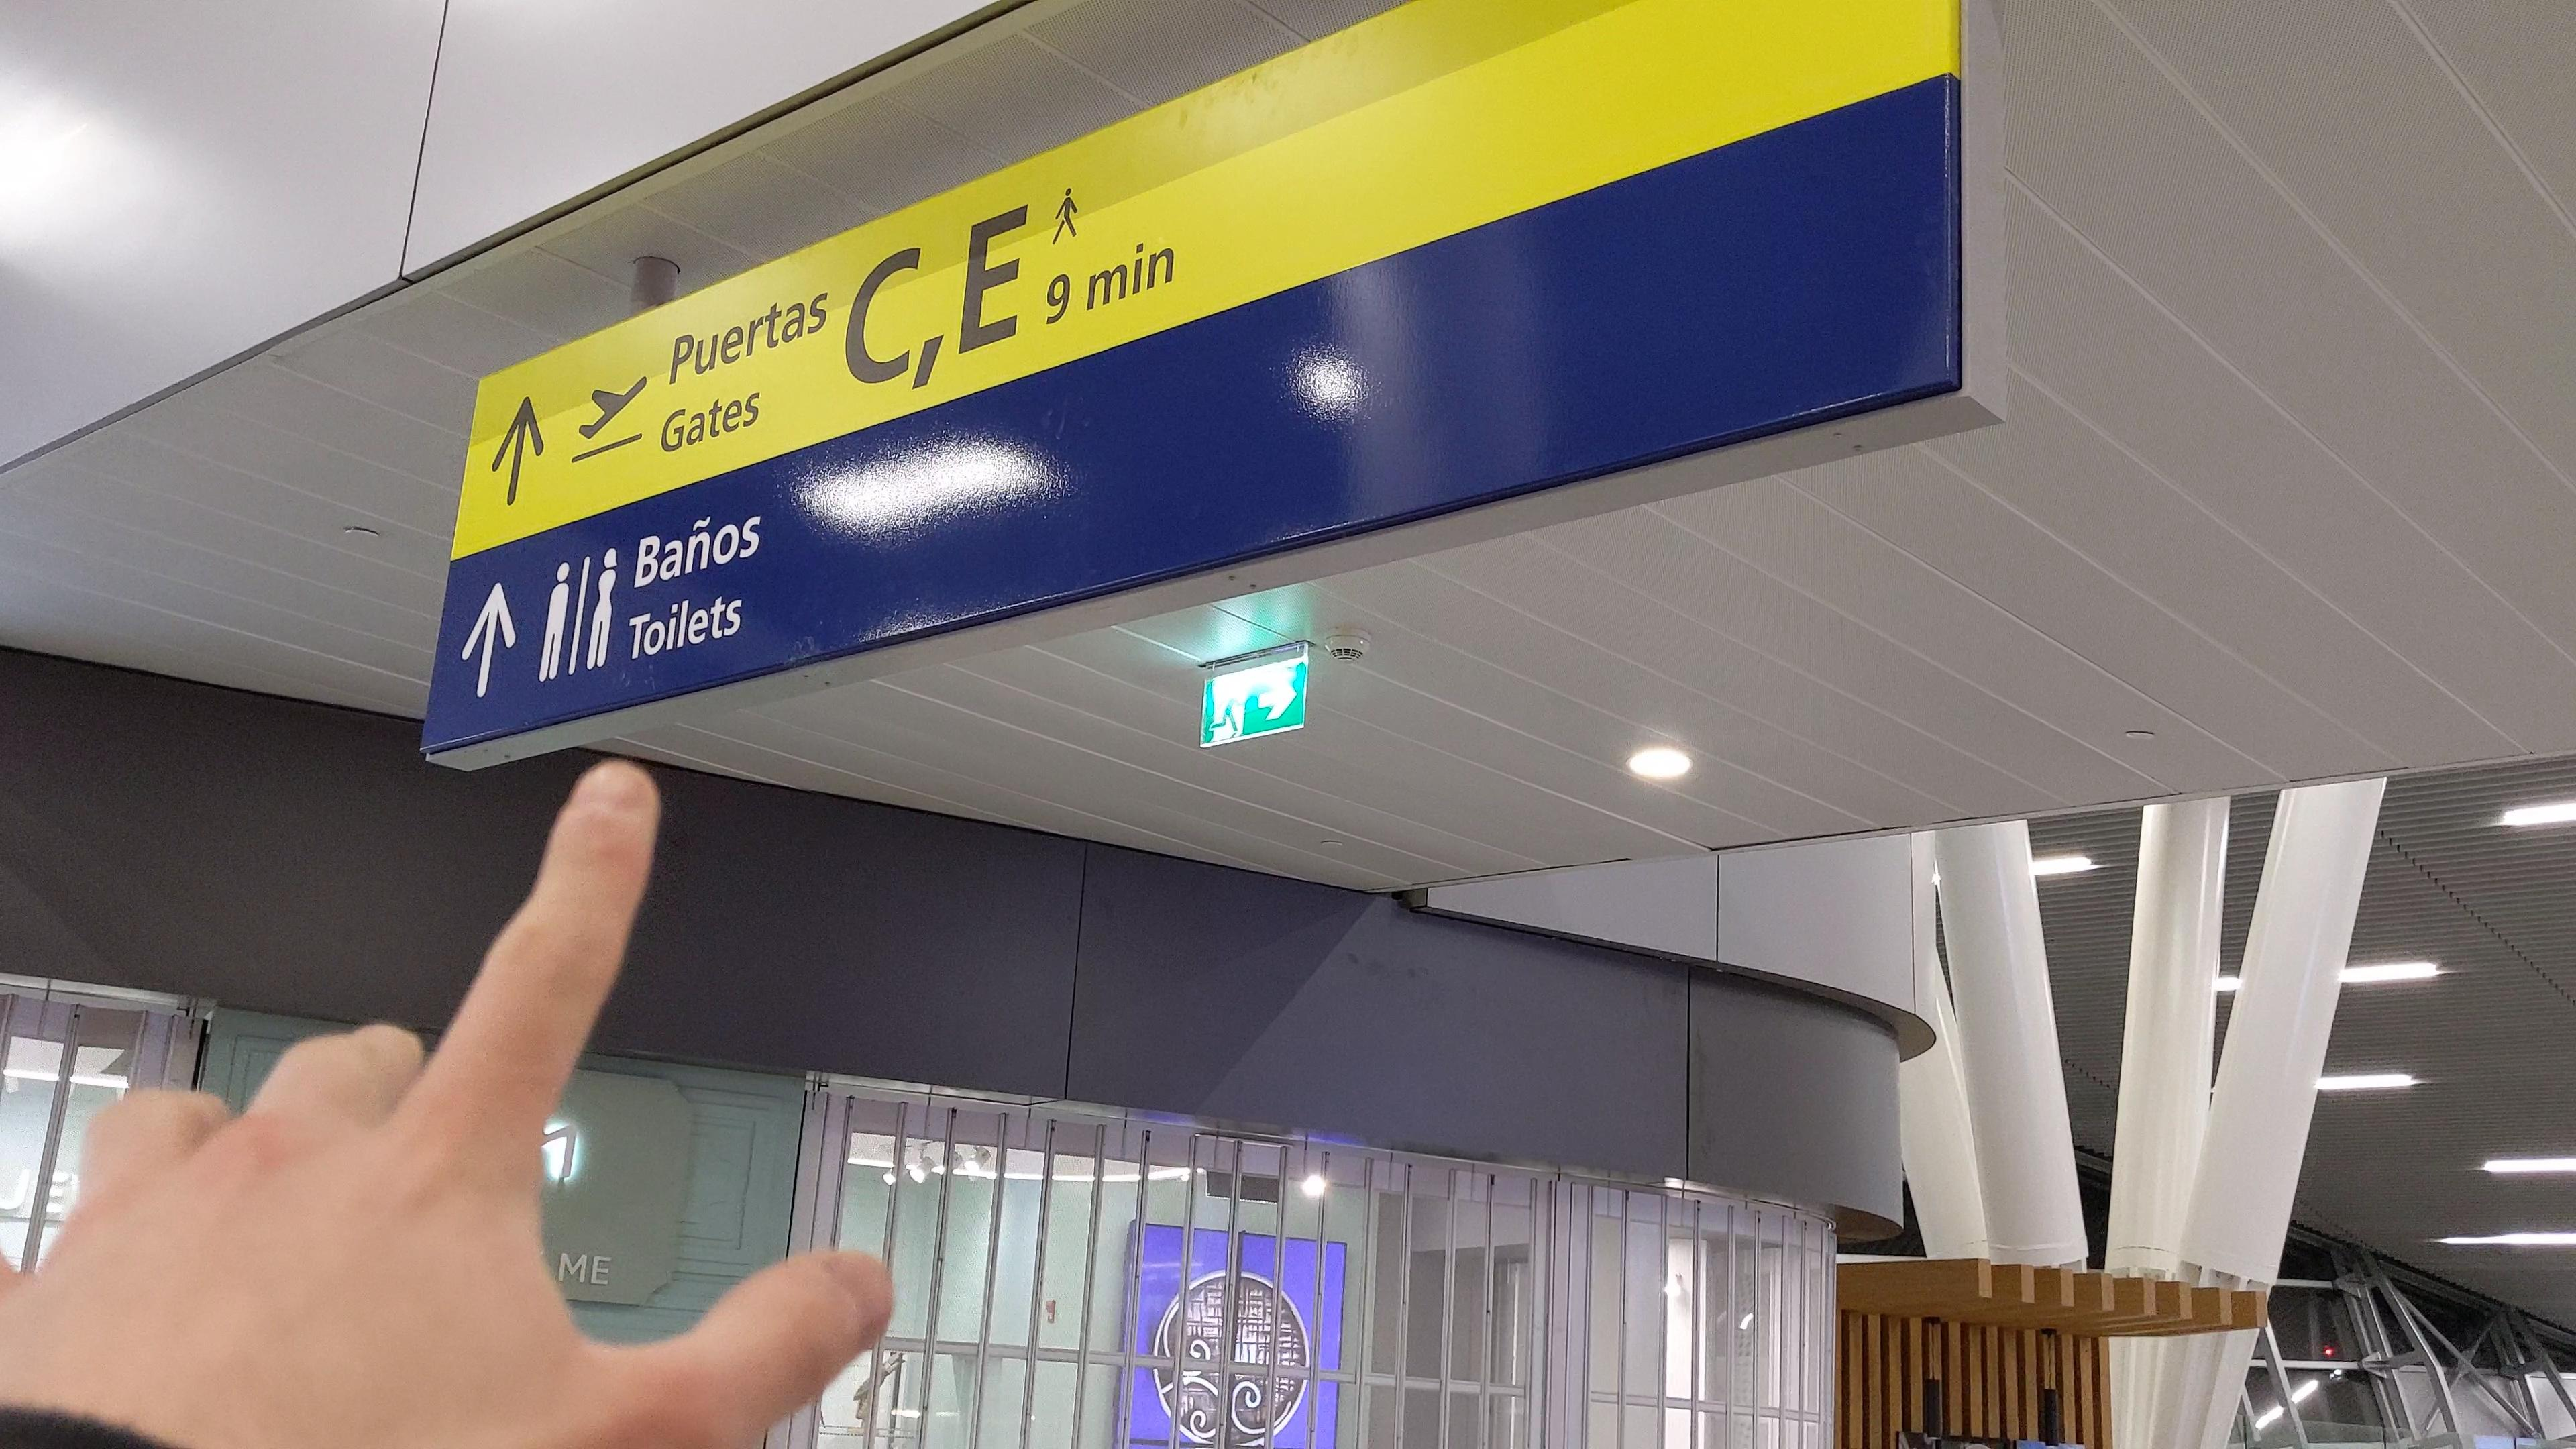airplane symbol: (577, 373, 653, 444)
bathrooms: (533, 543, 626, 685)
emergency exit: (1210, 690, 1246, 743)
emergency right arrow: (1254, 678, 1300, 724)
thin up arrow: (460, 579, 518, 699), (488, 393, 548, 510)
